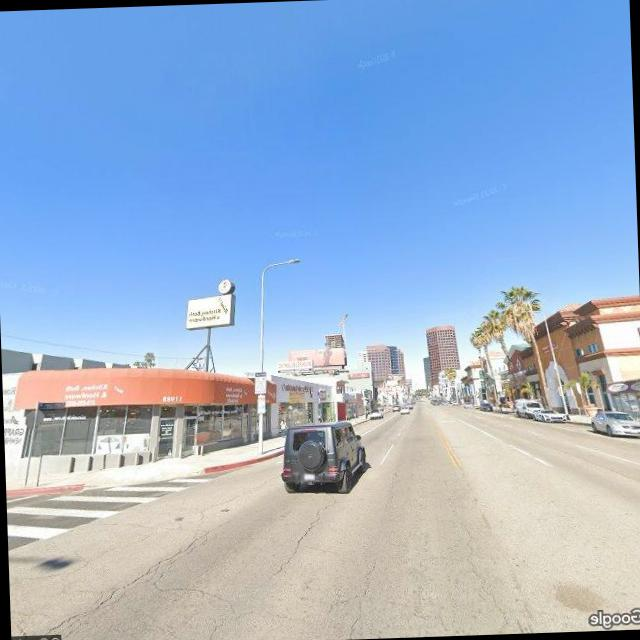crack: (13, 506, 241, 640), (447, 493, 541, 632), (265, 492, 341, 578), (332, 555, 385, 639)
